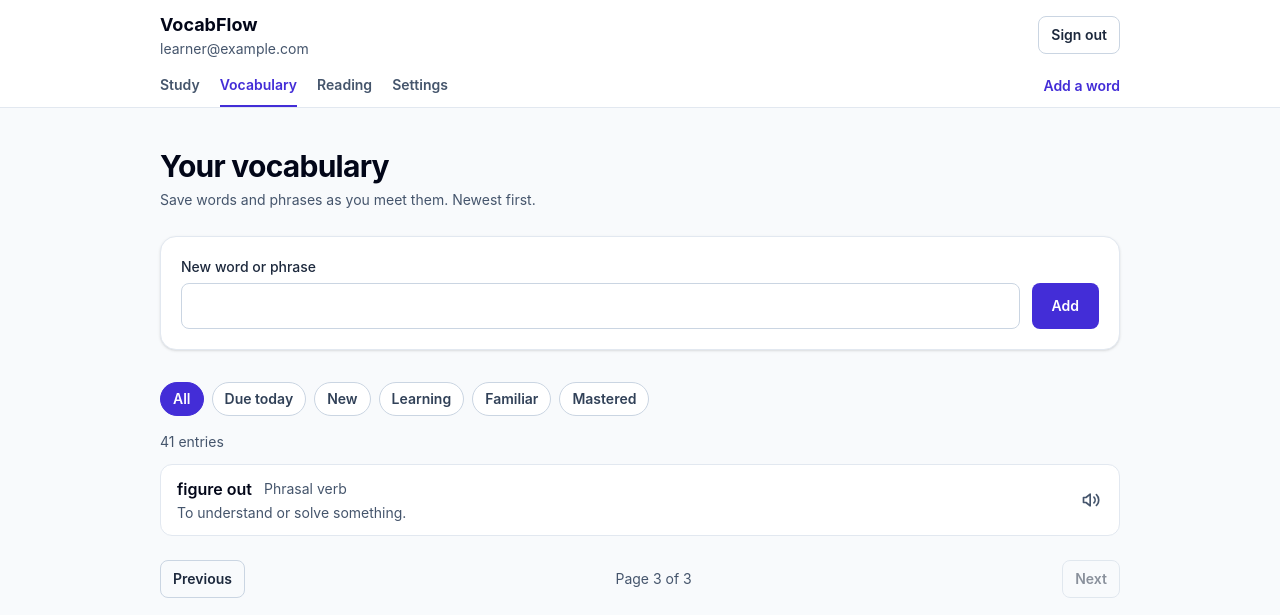
Test: returns to the same list page after opening an entry
The image size is (1280, 615).
Click the link "figure out Phrasal verb To understand or solve something." at coordinates (292, 500), box [177, 479, 406, 521]
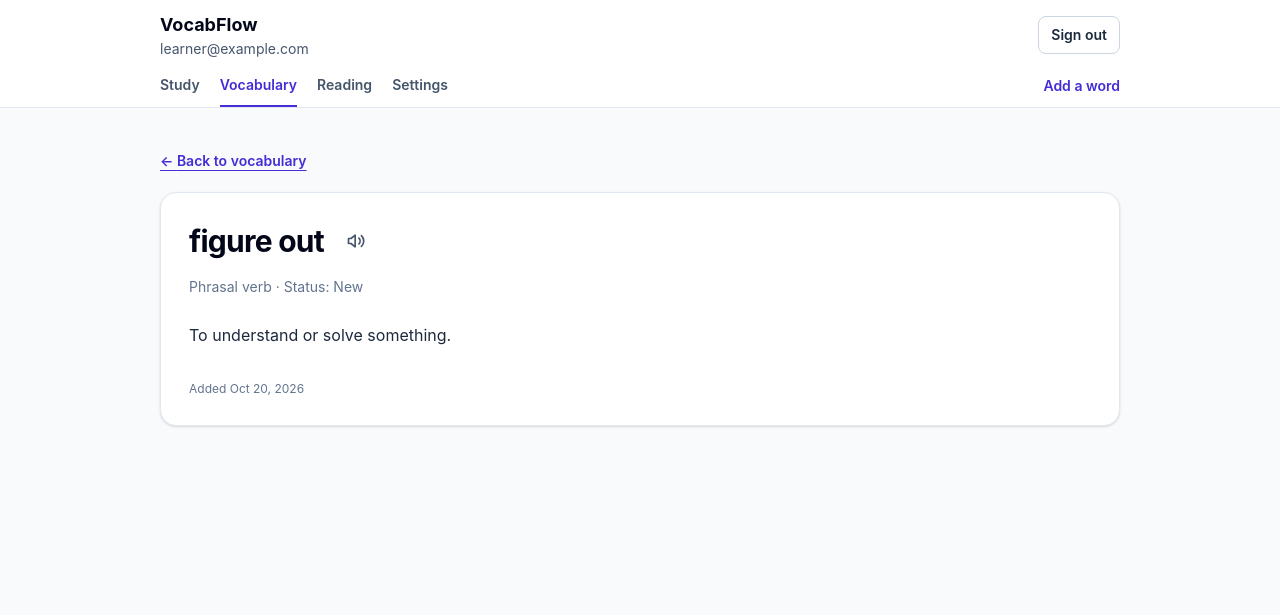
Click the link "← Back to vocabulary" at coordinates (168, 160), box [160, 152, 306, 169]
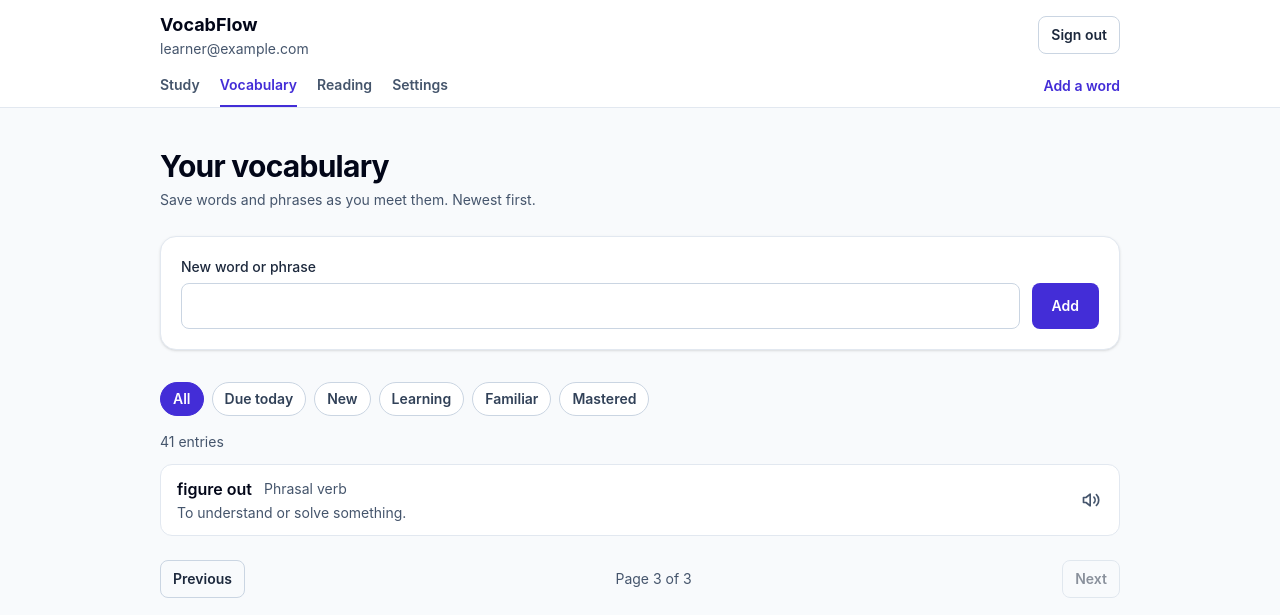
expect the text "Page 3 of 3" is shown: met, box [616, 569, 692, 589]
